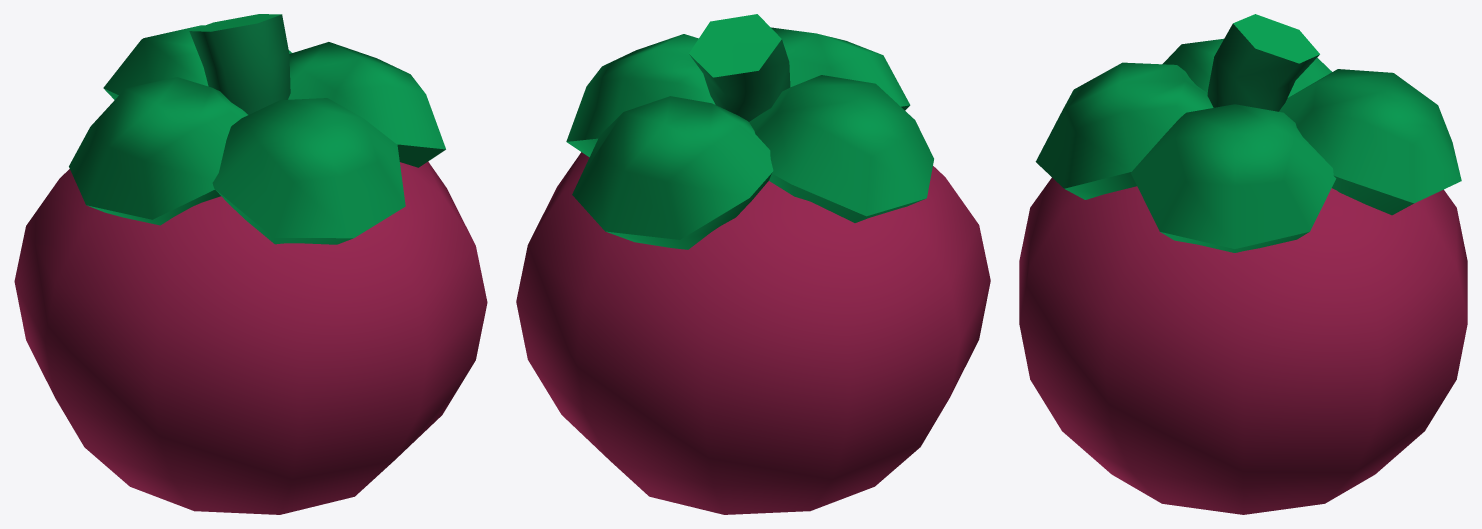
Rendered from SM_Fruits_Mangostan_1.fbx.
The picture shows the model from 3 angles, left to right: view 1: azimuth 30°, elevation 25°; view 2: azimuth 150°, elevation 25°; view 3: azimuth 270°, elevation 25°; orthographic projection.
Visible parts, largest first — view 1: SM_Fruits_Mangostan_1; view 2: SM_Fruits_Mangostan_1; view 3: SM_Fruits_Mangostan_1.
Part boxes in pixels (x1,y1,x2,y2): SM_Fruits_Mangostan_1: (14,14,487,514); SM_Fruits_Mangostan_1: (516,14,990,514); SM_Fruits_Mangostan_1: (1019,14,1467,514).
Bounding box in the file's own units: 10.92 × 11.95 × 10.39.
